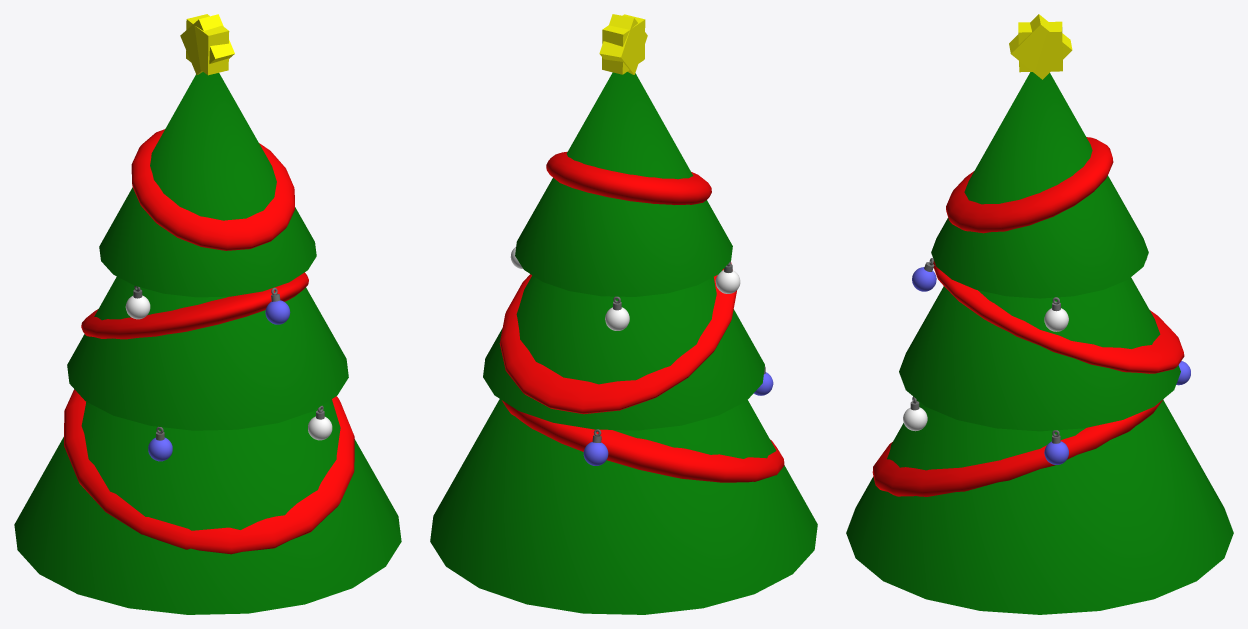
File: sapin.fbx
3 renders of one model, left to right at view 1: azimuth 30°, elevation 25°; view 2: azimuth 150°, elevation 25°; view 3: azimuth 270°, elevation 25°, orthographic.
Parts seen in each view (by area): view 1: pCone1, pCone2, pCone3, pTorus3, pTorus1, pTorus2, pCube1, pCube2, pTorus9, pTorus11, pTorus12, pTorus8; view 2: pCone1, pCone3, pCone2, pTorus2, pTorus3, pTorus1, pCube1, pCube2, pTorus10, pTorus7, pTorus8; view 3: pCone1, pCone2, pCone3, pTorus3, pTorus2, pTorus1, pCube2, pCube1, pTorus13, pTorus6, pTorus9, pTorus12.
Boxes of the visible parts, box(x1,y1,x2,y2) form: pCone1: box(14, 399, 401, 614); pCone2: box(67, 276, 348, 430); pCone3: box(99, 72, 316, 297); pTorus3: box(64, 389, 354, 554); pTorus1: box(131, 129, 294, 250); pTorus2: box(81, 272, 308, 339); pCube1: box(186, 14, 229, 75); pCube2: box(180, 14, 234, 74); pTorus9: box(265, 287, 290, 324); pTorus11: box(148, 426, 172, 461); pTorus12: box(308, 405, 332, 440); pTorus8: box(125, 286, 150, 319); pCone1: box(430, 399, 817, 614); pCone3: box(515, 72, 732, 296); pCone2: box(483, 275, 764, 430); pTorus2: box(499, 262, 736, 414); pTorus3: box(502, 400, 784, 482); pTorus1: box(546, 151, 711, 205); pCube1: box(602, 14, 645, 74); pCube2: box(599, 14, 647, 74); pTorus10: box(583, 429, 608, 465); pTorus7: box(605, 296, 629, 330); pTorus8: box(715, 261, 740, 293); pCone1: box(846, 399, 1233, 614); pCone2: box(899, 277, 1180, 431); pCone3: box(931, 72, 1148, 298); pTorus3: box(872, 399, 1163, 496); pTorus2: box(933, 261, 1184, 373); pTorus1: box(946, 137, 1113, 233); pCube2: box(1009, 14, 1072, 79); pCube1: box(1018, 21, 1062, 72); pTorus13: box(1044, 430, 1068, 464); pTorus6: box(1044, 297, 1068, 331); pTorus9: box(912, 258, 936, 291); pTorus12: box(903, 396, 927, 431).
Bounding box in the file's own units: 3.27 × 5.2 × 3.27.
